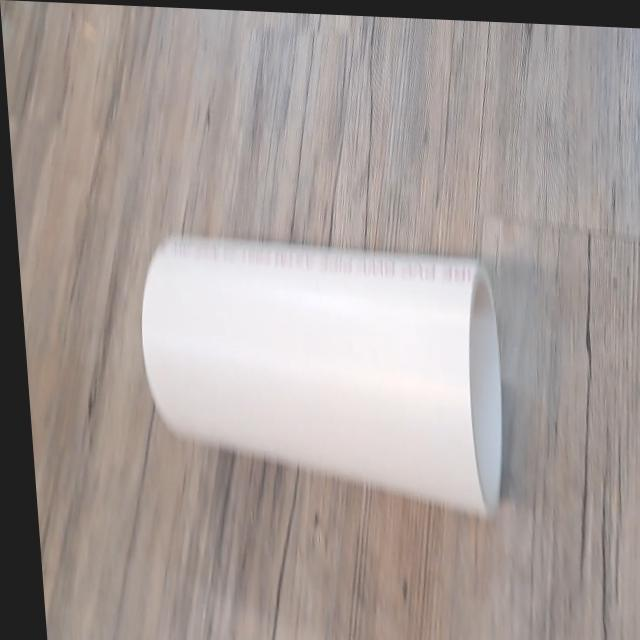CORAL: (127, 224, 517, 531)
